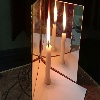fire: (47, 1, 51, 47)
